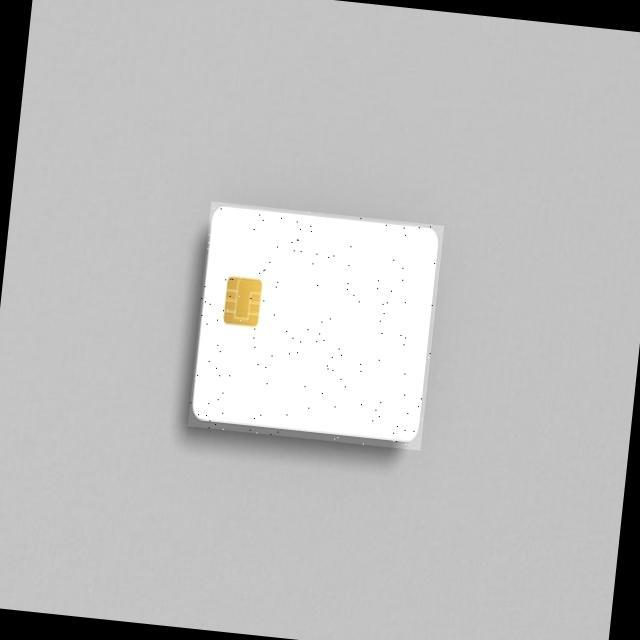payment_card: (186, 200, 445, 448)
